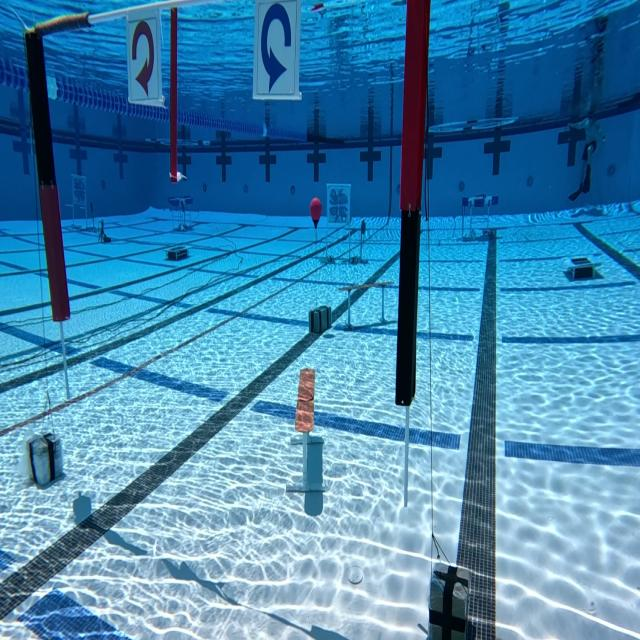blue_side: (250, 0, 303, 97)
red_side: (115, 6, 171, 112)
